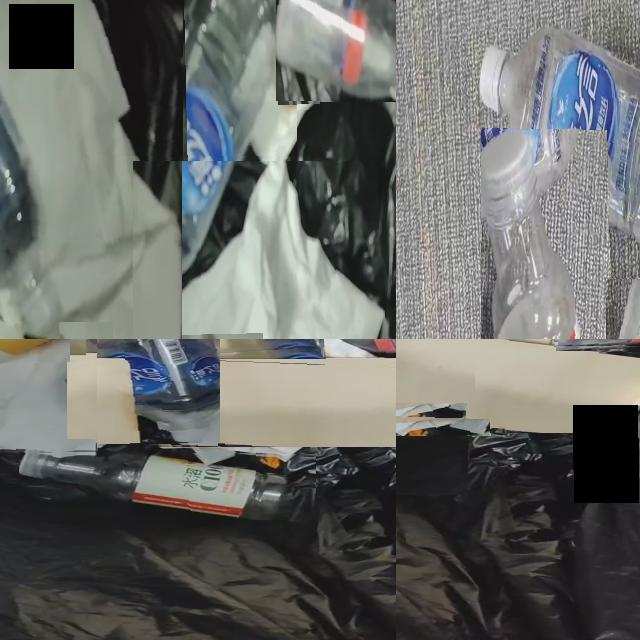bottle: (106, 0, 297, 333), (480, 29, 640, 244), (481, 131, 580, 339), (20, 451, 316, 520), (89, 339, 220, 443), (276, 0, 396, 99), (314, 492, 316, 493)
carton: (396, 339, 640, 433), (159, 359, 396, 447)
paper: (0, 0, 183, 339), (136, 161, 385, 339), (232, 22, 321, 167), (0, 339, 97, 454), (194, 445, 304, 462), (396, 419, 490, 436), (325, 339, 377, 358), (69, 322, 113, 339), (555, 339, 602, 345)
